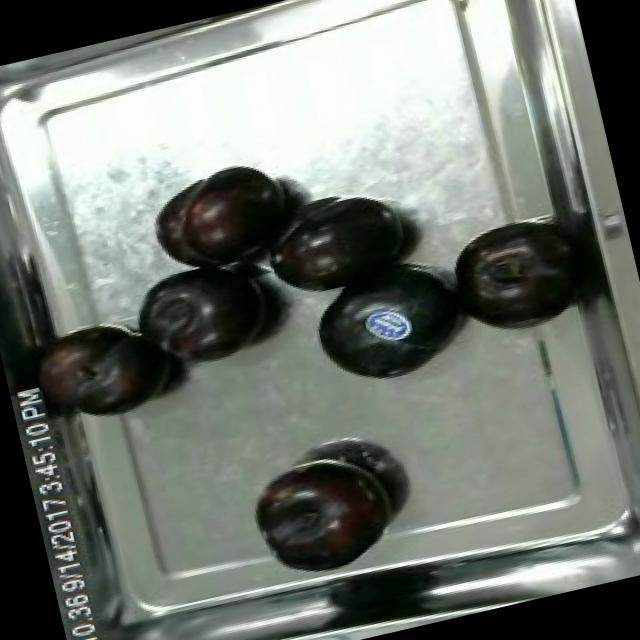Fruit: (294, 251, 476, 402), (238, 442, 408, 590), (120, 244, 288, 384), (138, 154, 300, 282), (26, 305, 184, 436), (439, 214, 572, 344)
